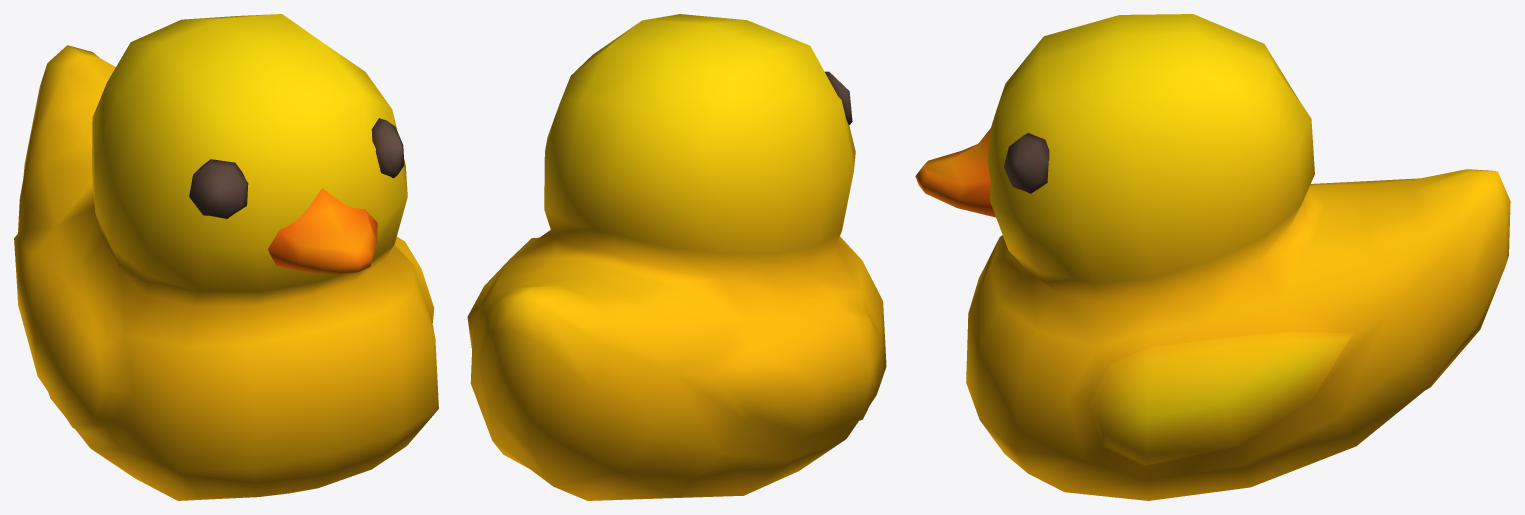
File: duckRubber.fbx
The picture shows the model from 3 angles, left to right: view 1: azimuth 30°, elevation 25°; view 2: azimuth 150°, elevation 25°; view 3: azimuth 270°, elevation 25°; orthographic projection.
Parts seen in each view (by area): view 1: duckRubber; view 2: duckRubber; view 3: duckRubber.
Part boxes in pixels (bbox=[...]): duckRubber: bbox=[14, 14, 438, 500]; duckRubber: bbox=[467, 14, 886, 500]; duckRubber: bbox=[915, 14, 1510, 500].
Bounding box in the file's own units: 7.68 × 8.8 × 11.1.
